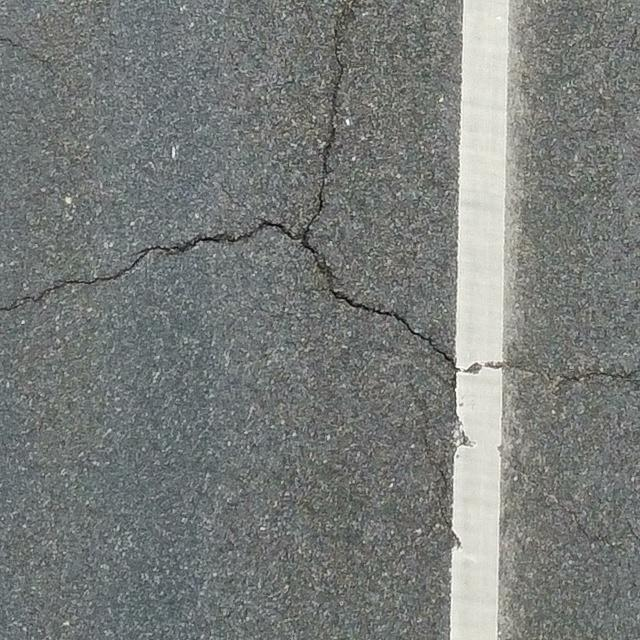LongitudinalCrack: (305, 29, 342, 234)
TransverseCrack: (1, 221, 629, 379)
